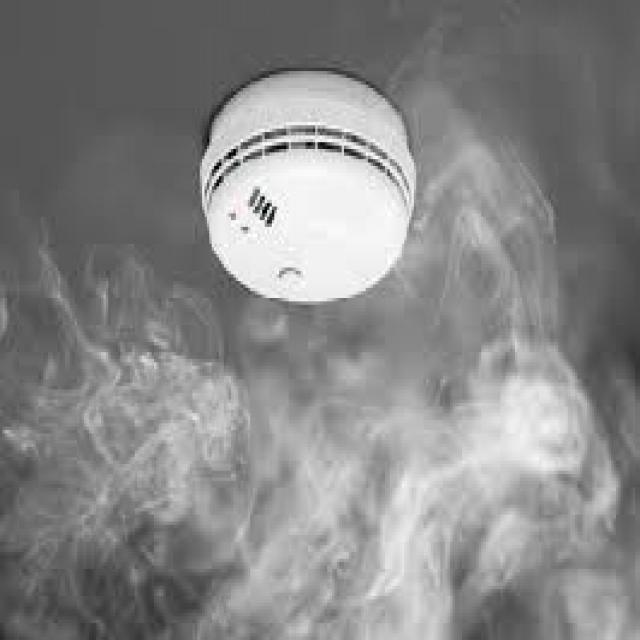Smoke: (18, 284, 602, 628)
